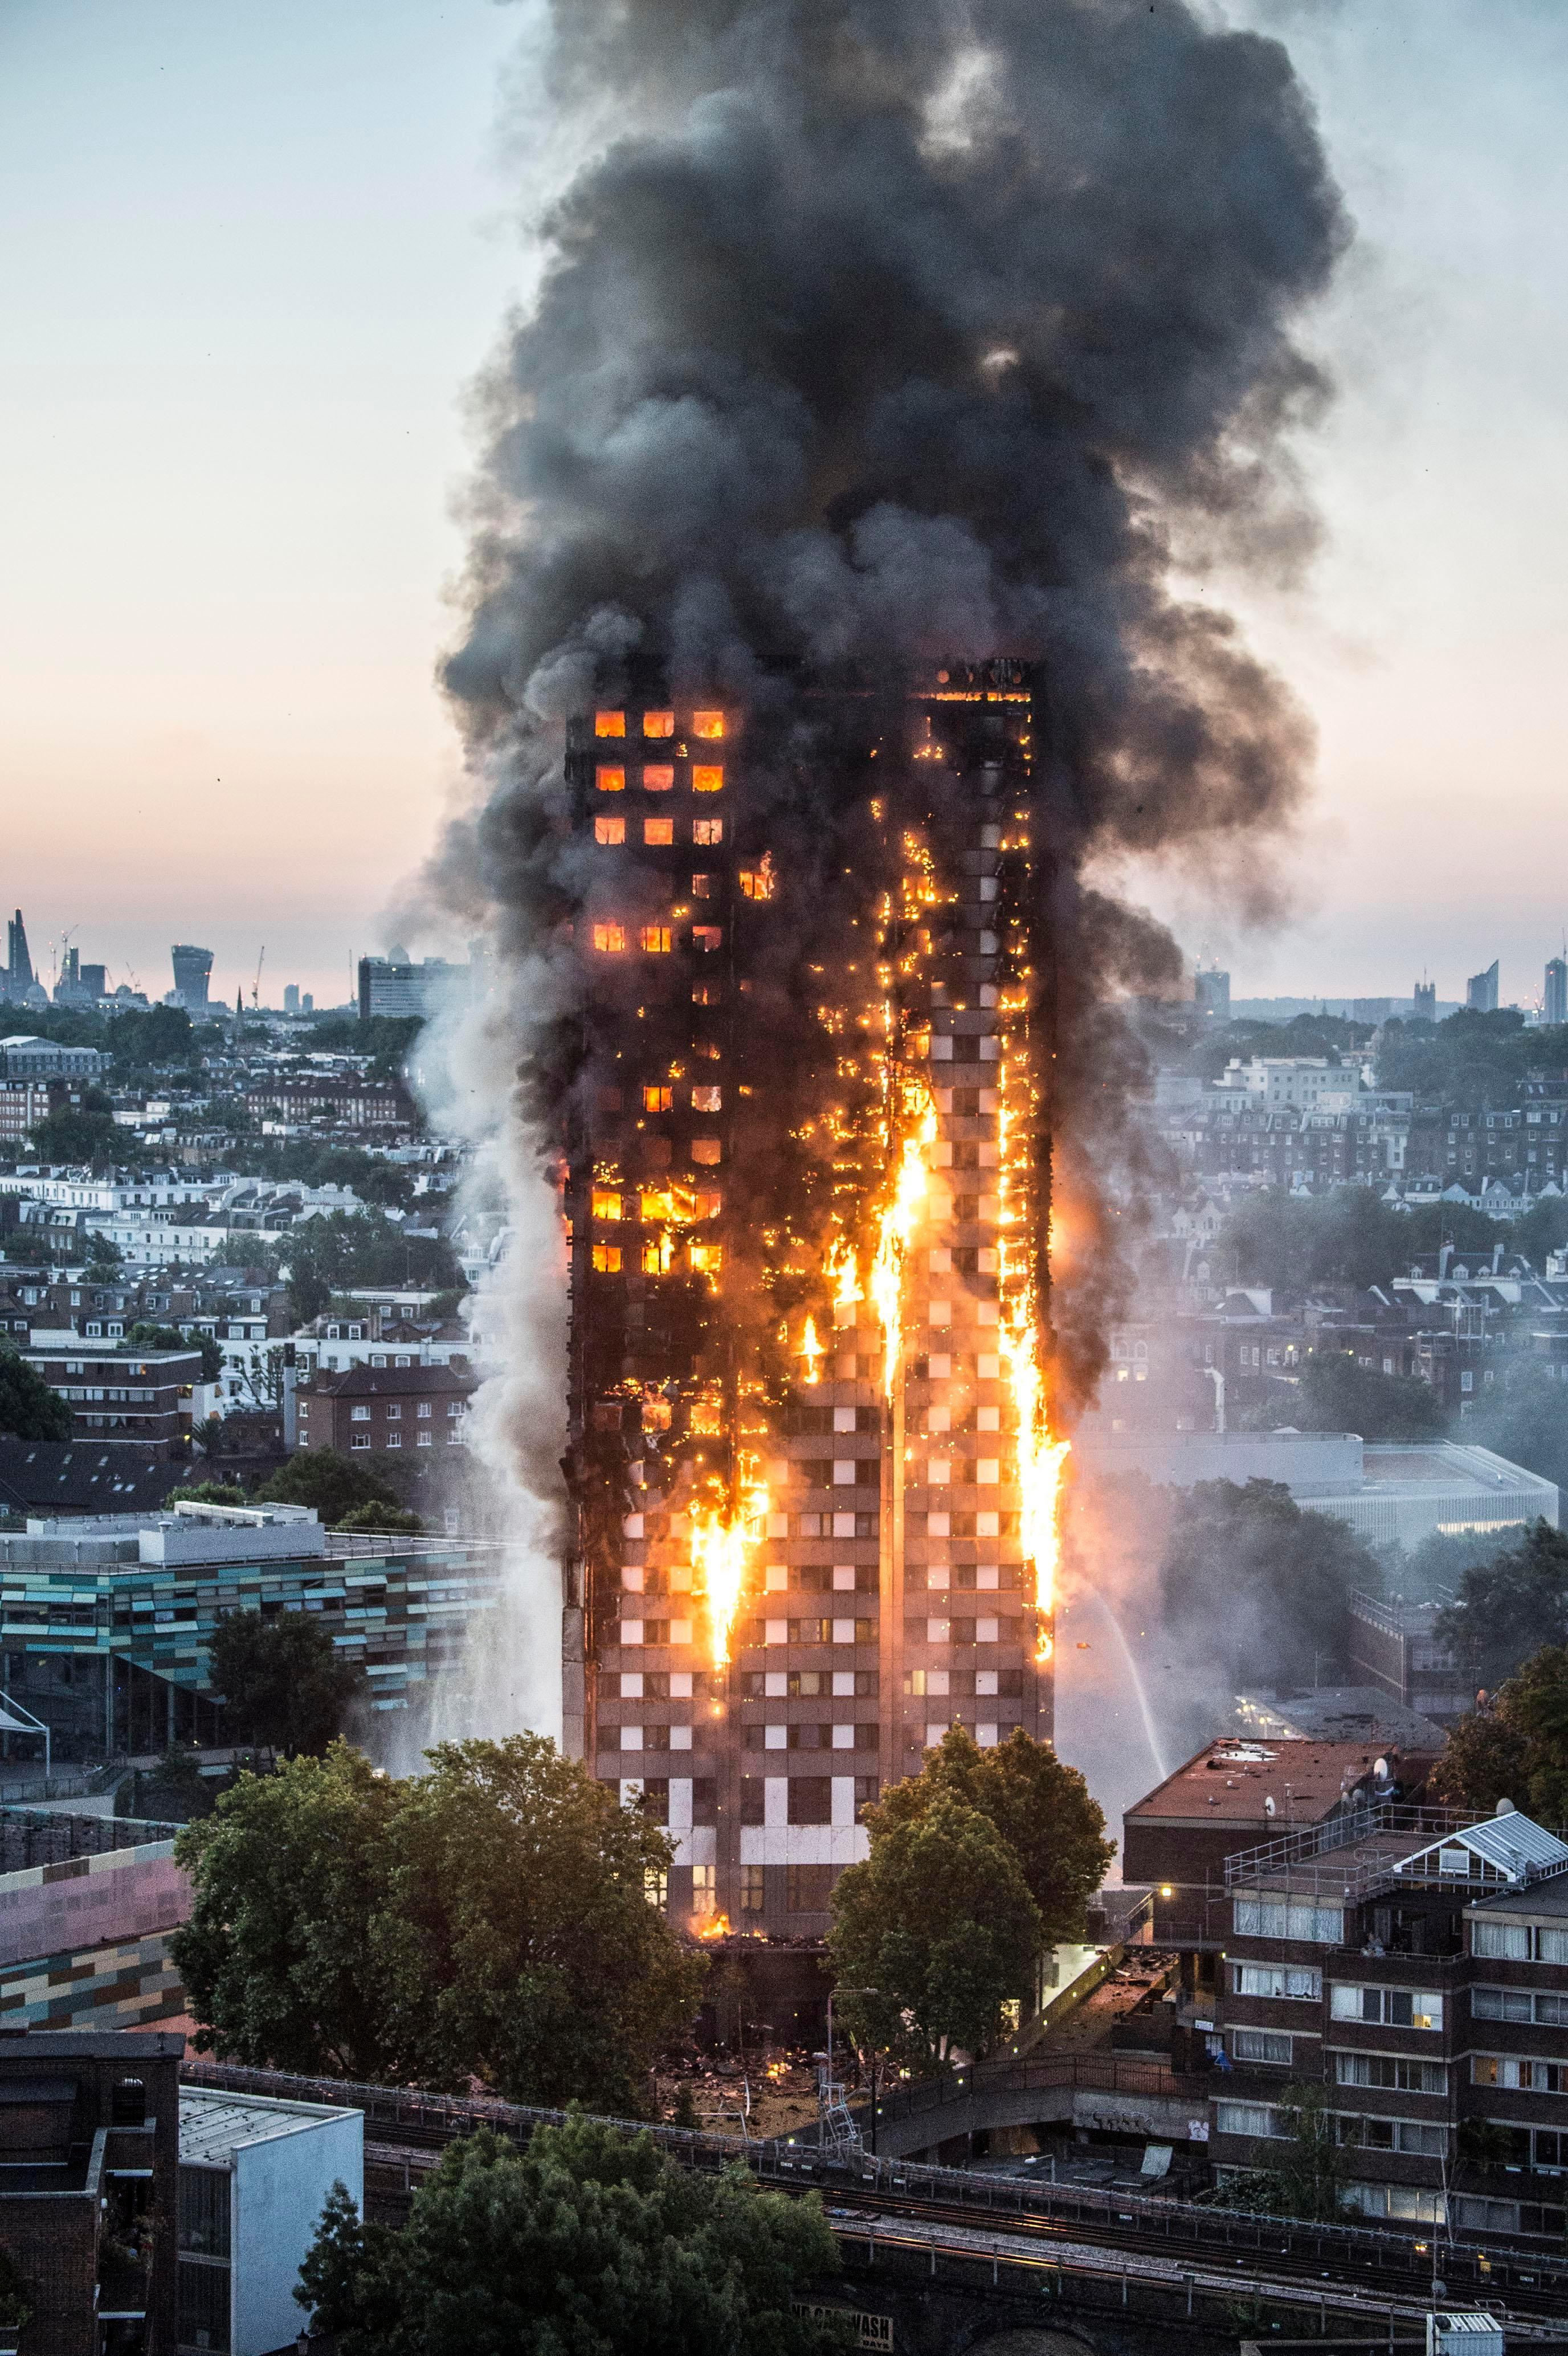smoke: (576, 46, 1276, 649)
